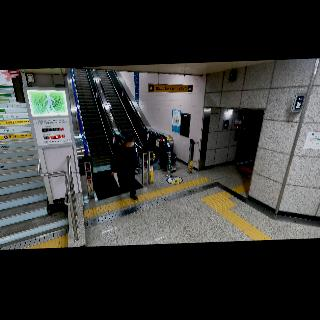anomaly: (152, 146, 178, 173)
normal: (110, 133, 138, 201)
